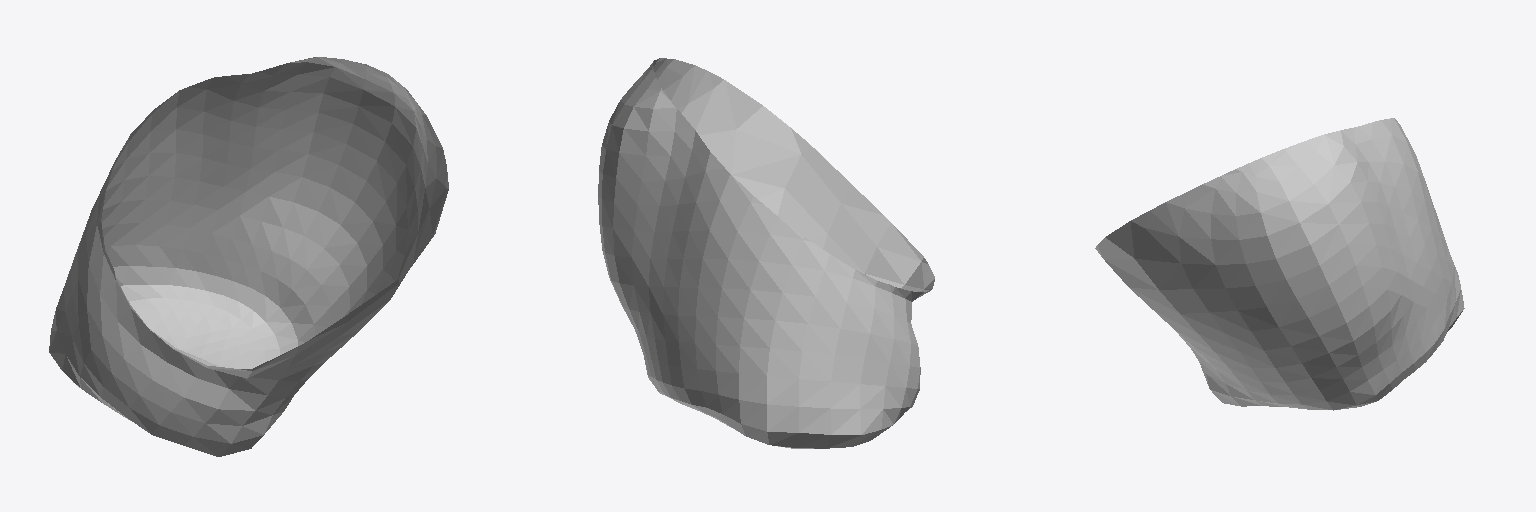
The model's file is genou_gauche.obj.
3 views of the same model, side by side, from view 1: azimuth 30°, elevation 25°; view 2: azimuth 150°, elevation 25°; view 3: azimuth 270°, elevation 25° (orthographic).
Visible parts, largest first — view 1: 15548_French_Horseman_v1.002_15548_French_Horseman_v1.046; view 2: 15548_French_Horseman_v1.002_15548_French_Horseman_v1.046; view 3: 15548_French_Horseman_v1.002_15548_French_Horseman_v1.046.
Boxes of the visible parts, x1,y1,x2,y2 form: 15548_French_Horseman_v1.002_15548_French_Horseman_v1.046: [49, 57, 448, 456]; 15548_French_Horseman_v1.002_15548_French_Horseman_v1.046: [598, 58, 934, 448]; 15548_French_Horseman_v1.002_15548_French_Horseman_v1.046: [1095, 118, 1464, 410].
Bounding box in the file's own units: 0.7451 × 0.75 × 0.7671.